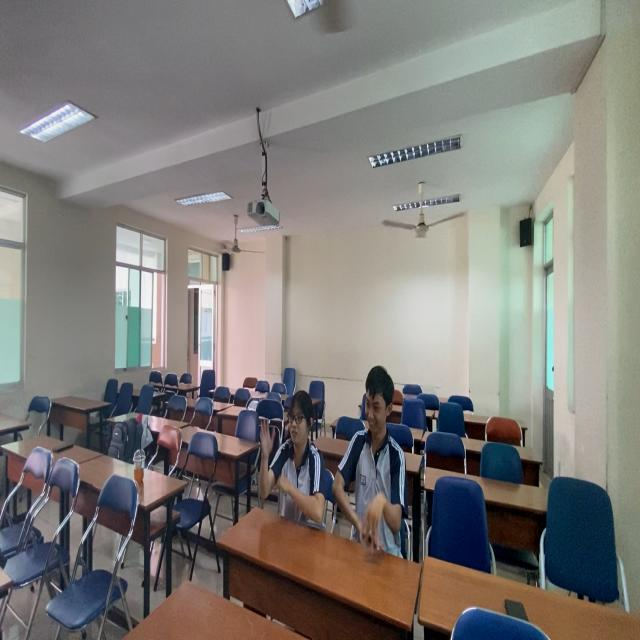raise_hand: (253, 395, 319, 532)
